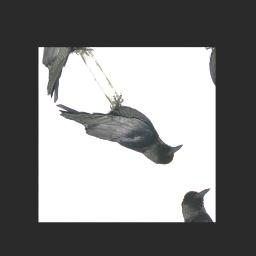Crow: (54, 59, 189, 199)
